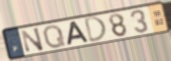3: (130, 8, 150, 34)
8: (108, 13, 128, 38)
A: (67, 20, 91, 47)
D: (84, 15, 109, 44)
N: (19, 26, 45, 54)
Q: (42, 24, 67, 50)
